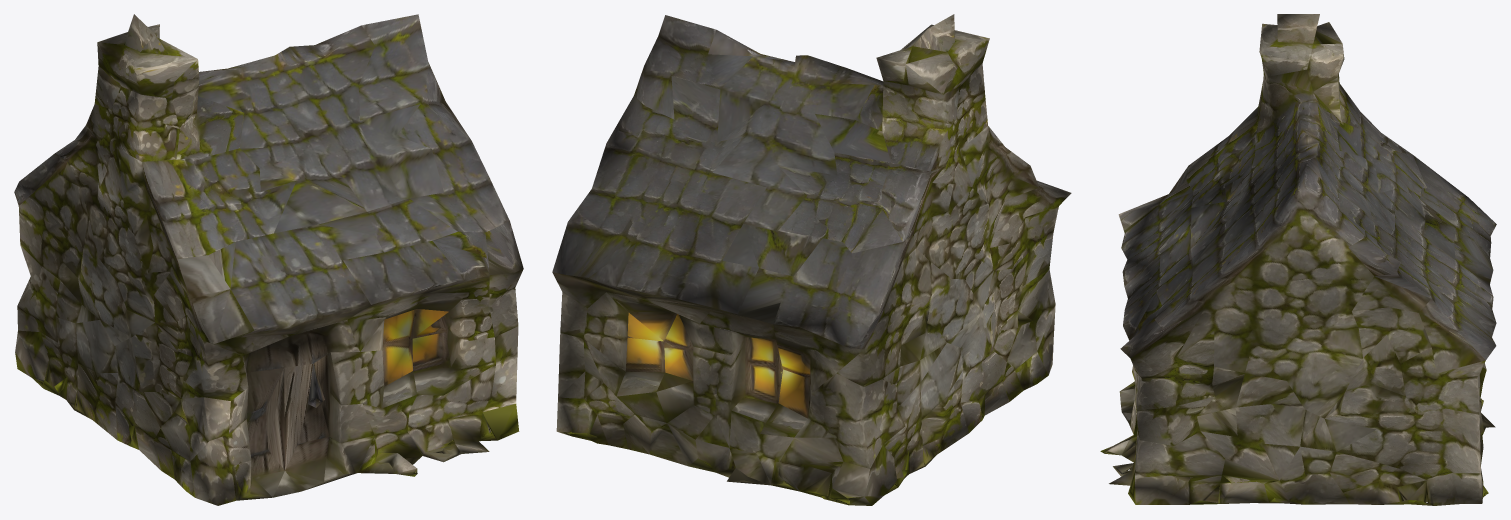
Rendered from land_cottage_far.obj.
3 views of the same model, side by side, from view 1: azimuth 30°, elevation 25°; view 2: azimuth 150°, elevation 25°; view 3: azimuth 270°, elevation 25° (orthographic). The views are drawn at different scales.
Visible parts, largest first — view 1: land_cottage_far; view 2: land_cottage_far; view 3: land_cottage_far.
Part boxes in pixels (x1,y1,x2,y2): land_cottage_far: (14,14,523,505); land_cottage_far: (552,14,1071,505); land_cottage_far: (1100,14,1496,505).
Bounding box in the file's own units: 4.48 × 5.51 × 5.37.
Materials: 1 (1 with a texture image).
